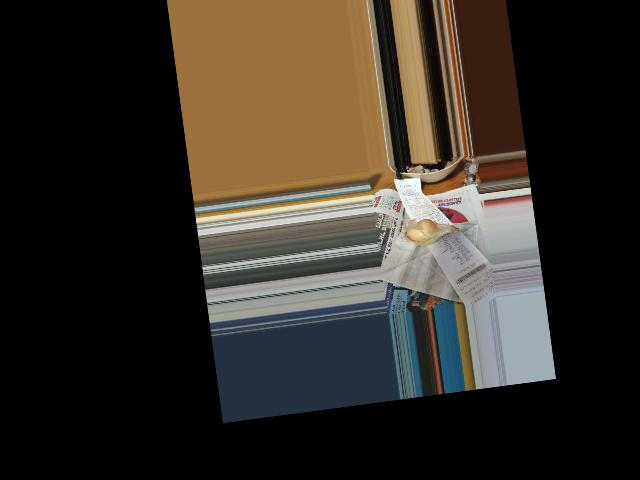onion: (404, 218, 445, 247)
